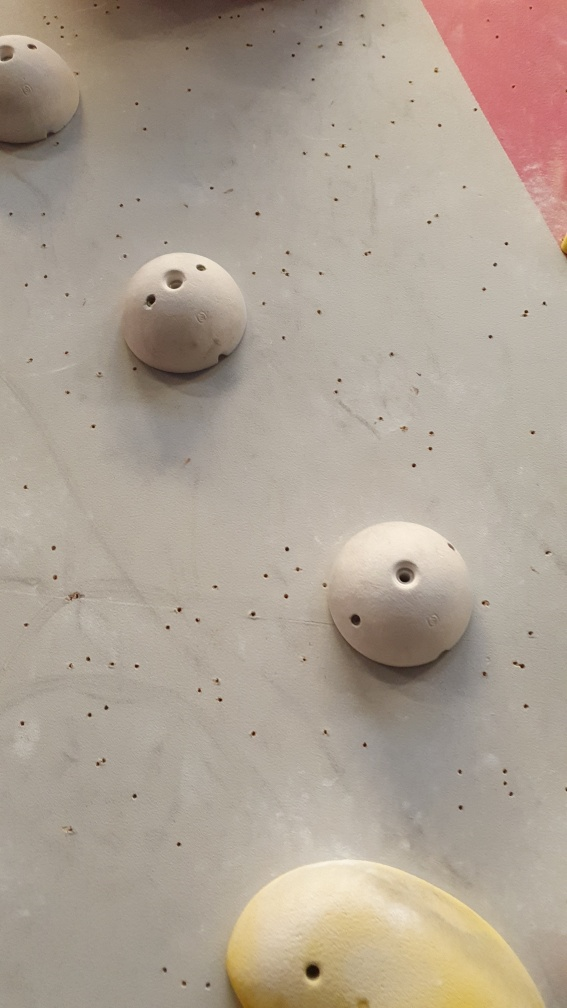Sloper: (326, 513, 474, 671), (120, 249, 253, 382), (1, 32, 89, 151)
